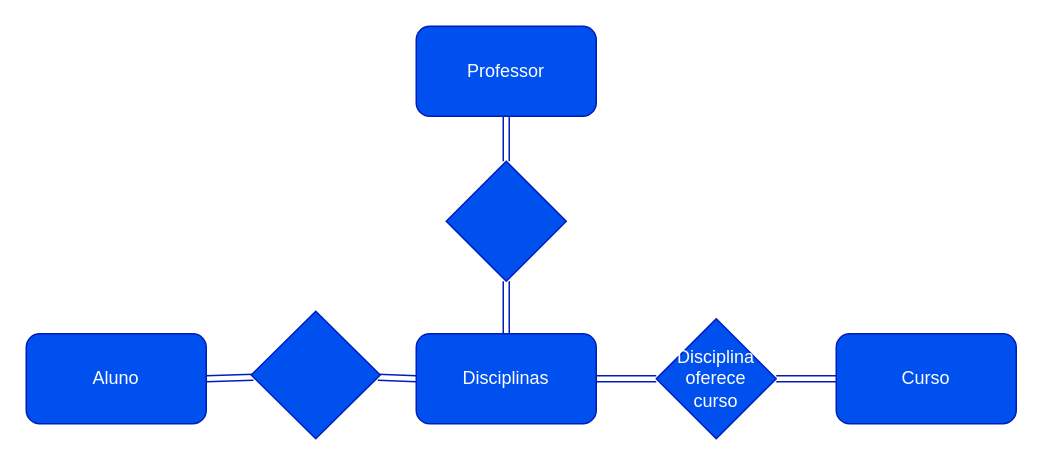
Image size: 1043x465. Some labels were removed from this diagram. Here are the shapes that lost their labels. From the top down, the centre of each, then its label:
the point at 505,220: Professor ensina disciplina
the point at 315,374: Aluno cursa disciplina
